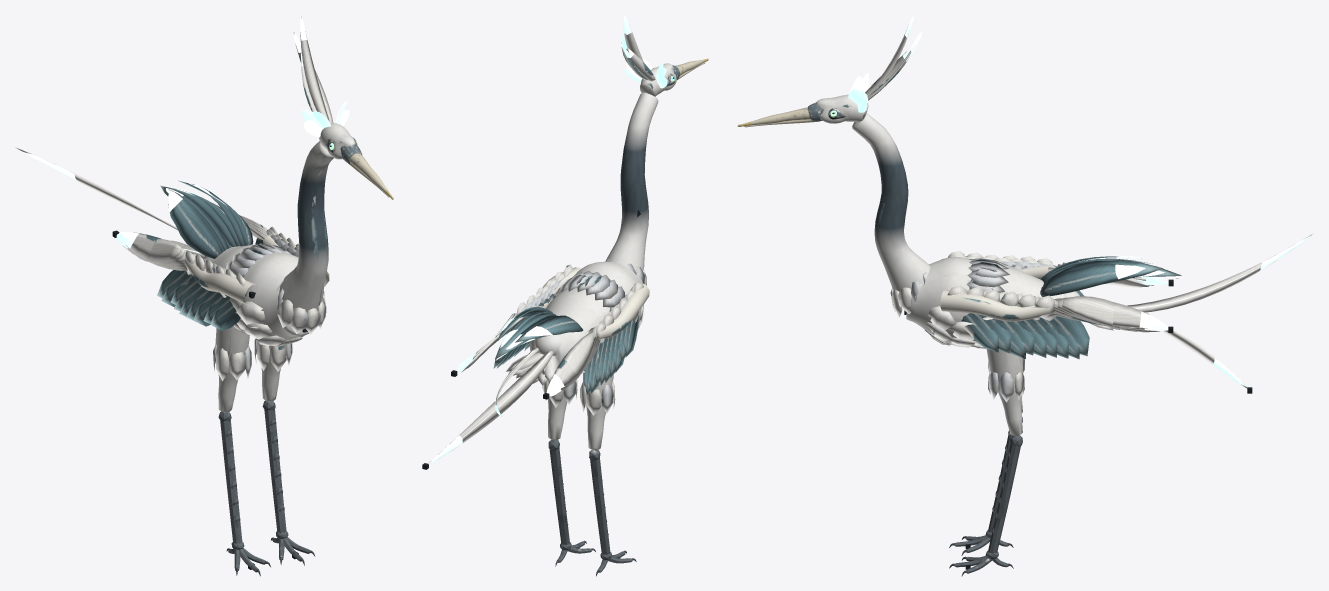
The model's file is SpiritCrane.fbx.
The picture shows the model from 3 angles, left to right: view 1: azimuth 30°, elevation 25°; view 2: azimuth 150°, elevation 25°; view 3: azimuth 270°, elevation 25°; orthographic projection. The views are drawn at different scales.
Visible parts, largest first — view 1: SpiritCrane_Neck, SpiritCrane_WingR, SpiritCrane_Body, SpiritCrane_Tail, SpiritCrane_LegR, SpiritCrane_LegL, SpiritCrane_Head, SpiritCrane_WingL, SpiritCrane_Head_Glow_a0f3f1, SpiritCrane_Tail_Glow_95eded; view 2: SpiritCrane_Tail, SpiritCrane_Neck, SpiritCrane_WingR, SpiritCrane_Body, SpiritCrane_LegR, SpiritCrane_LegL, SpiritCrane_WingL, SpiritCrane_Head, SpiritCrane_Tail_Glow_95eded, SpiritCrane_Head_Glow_a0f3f1; view 3: SpiritCrane_WingL, SpiritCrane_Neck, SpiritCrane_Body, SpiritCrane_Tail, SpiritCrane_LegL, SpiritCrane_Head, SpiritCrane_WingR, SpiritCrane_Tail_Glow_95eded, SpiritCrane_LegR.
Part boxes in pixels (<box>): SpiritCrane_Neck: <box>277,141,333,334</box>; SpiritCrane_WingR: <box>122,232,255,330</box>; SpiritCrane_Body: <box>203,243,322,346</box>; SpiritCrane_Tail: <box>15,147,253,258</box>; SpiritCrane_LegR: <box>213,326,270,576</box>; SpiritCrane_LegL: <box>254,339,315,565</box>; SpiritCrane_Head: <box>293,16,393,199</box>; SpiritCrane_WingL: <box>240,215,329,286</box>; SpiritCrane_Head_Glow_a0f3f1: <box>301,101,349,137</box>; SpiritCrane_Tail_Glow_95eded: <box>23,152,214,253</box>; SpiritCrane_Tail: <box>429,306,583,462</box>; SpiritCrane_Neck: <box>605,92,658,285</box>; SpiritCrane_WingR: <box>549,282,649,394</box>; SpiritCrane_Body: <box>529,261,644,373</box>; SpiritCrane_LegR: <box>580,370,636,576</box>; SpiritCrane_LegL: <box>542,379,595,566</box>; SpiritCrane_WingL: <box>461,264,580,372</box>; SpiritCrane_Head: <box>621,25,708,96</box>; SpiritCrane_Tail_Glow_95eded: <box>428,317,552,464</box>; SpiritCrane_Head_Glow_a0f3f1: <box>624,58,667,88</box>; SpiritCrane_WingL: <box>940,285,1159,359</box>; SpiritCrane_Neck: <box>852,113,930,317</box>; SpiritCrane_Body: <box>906,256,1064,348</box>; SpiritCrane_Tail: <box>1040,234,1312,388</box>; SpiritCrane_LegL: <box>949,348,1024,576</box>; SpiritCrane_Head: <box>737,27,911,127</box>; SpiritCrane_WingR: <box>941,251,1153,296</box>; SpiritCrane_Tail_Glow_95eded: <box>1113,234,1313,387</box>; SpiritCrane_LegR: <box>949,358,1024,555</box>.
Size of the model in its own units: 0.586 by 2.47 by 2.37.
7 materials, 1 textured.
